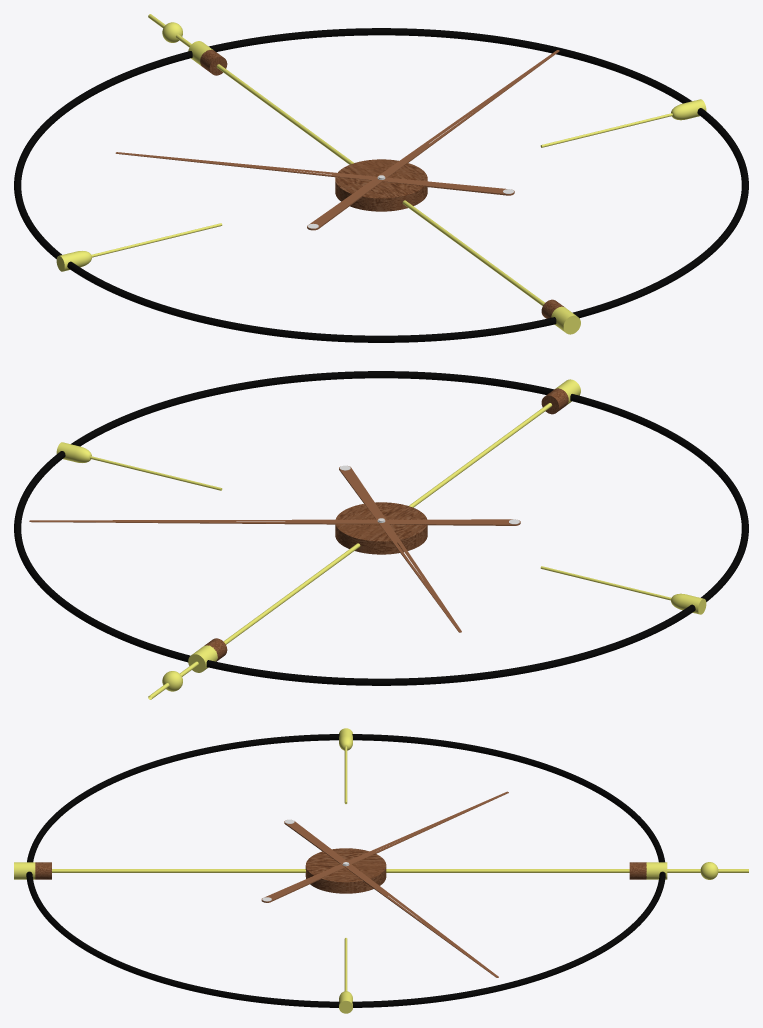
Rendered from sozani.glb.
The picture shows the model from 3 angles, top to bottom: view 1: azimuth 30°, elevation 25°; view 2: azimuth 150°, elevation 25°; view 3: azimuth 270°, elevation 25°; orthographic projection. The views are drawn at different scales.
Parts seen in each view (by area): view 1: NurbsCircle, Cylinder.003, Cylinder.002, Plane, NurbsPath, Plane.001, Cylinder; view 2: NurbsCircle, Cylinder.003, Plane, Cylinder.002, NurbsPath, Plane.001; view 3: NurbsCircle, Cylinder.003, NurbsPath, Plane, Plane.001, Cylinder.002.
Part boxes in pixels (x1,y1,x2,y2): NurbsCircle: (14, 28, 748, 342); Cylinder.003: (335, 159, 427, 211); Cylinder.002: (56, 99, 706, 271); Plane: (307, 50, 559, 230); NurbsPath: (148, 14, 544, 305); Plane.001: (115, 152, 514, 195); Cylinder: (551, 306, 580, 334); NurbsCircle: (14, 371, 748, 685); Cylinder.003: (335, 502, 427, 554); Plane: (29, 519, 520, 525); Cylinder.002: (56, 442, 706, 614); NurbsPath: (148, 403, 552, 699); Plane.001: (339, 466, 461, 632); NurbsCircle: (26, 734, 665, 1007); Cylinder.003: (305, 848, 386, 893); NurbsPath: (52, 869, 748, 872); Plane: (284, 820, 498, 977); Plane.001: (261, 791, 508, 902); Cylinder.002: (339, 728, 352, 1013).
Size of the model in its own units: 3.31 by 0.0927 by 3.78.
Materials: 4 (1 with a texture image).
